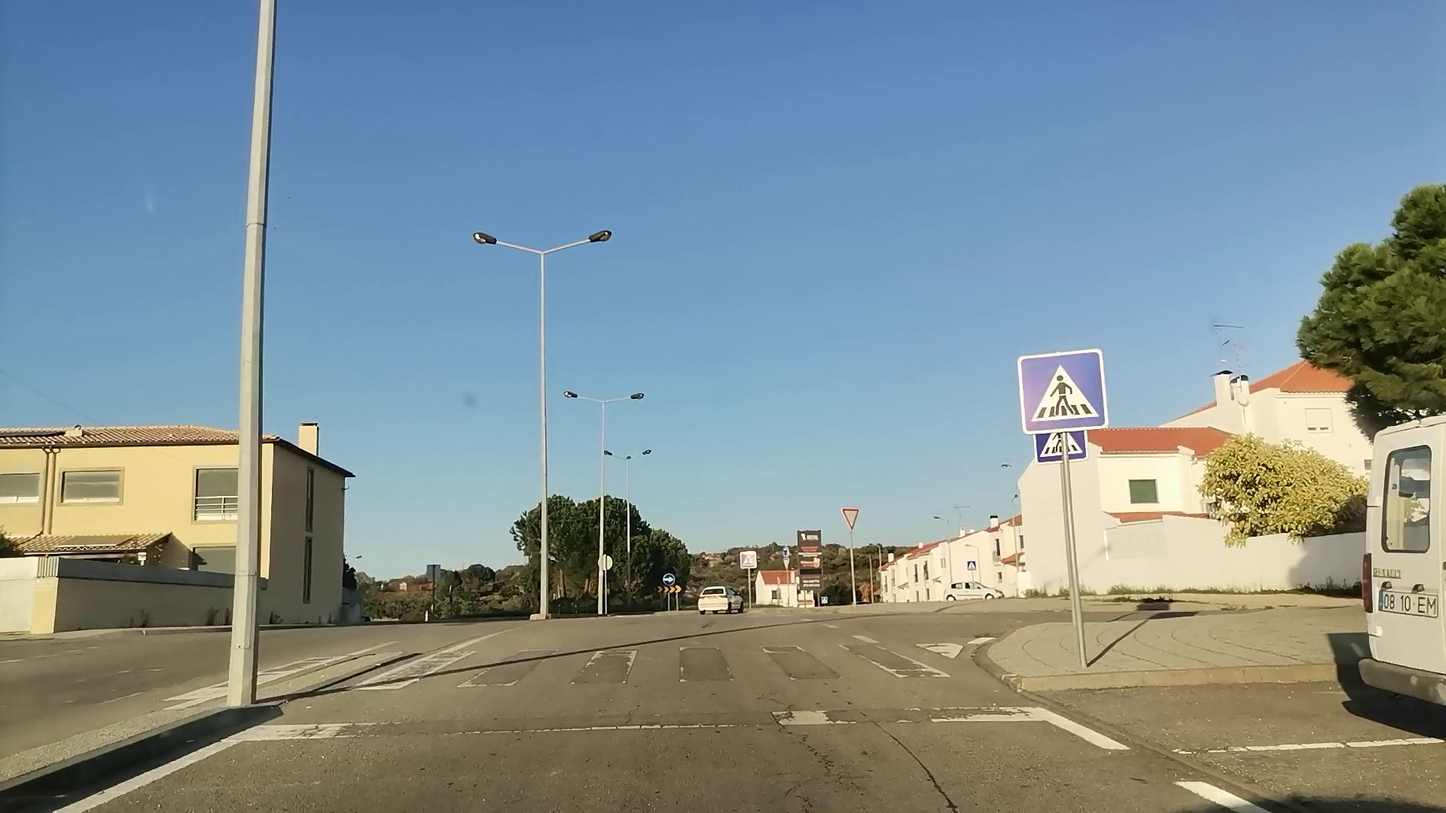Stairs: (355, 642, 993, 689)
